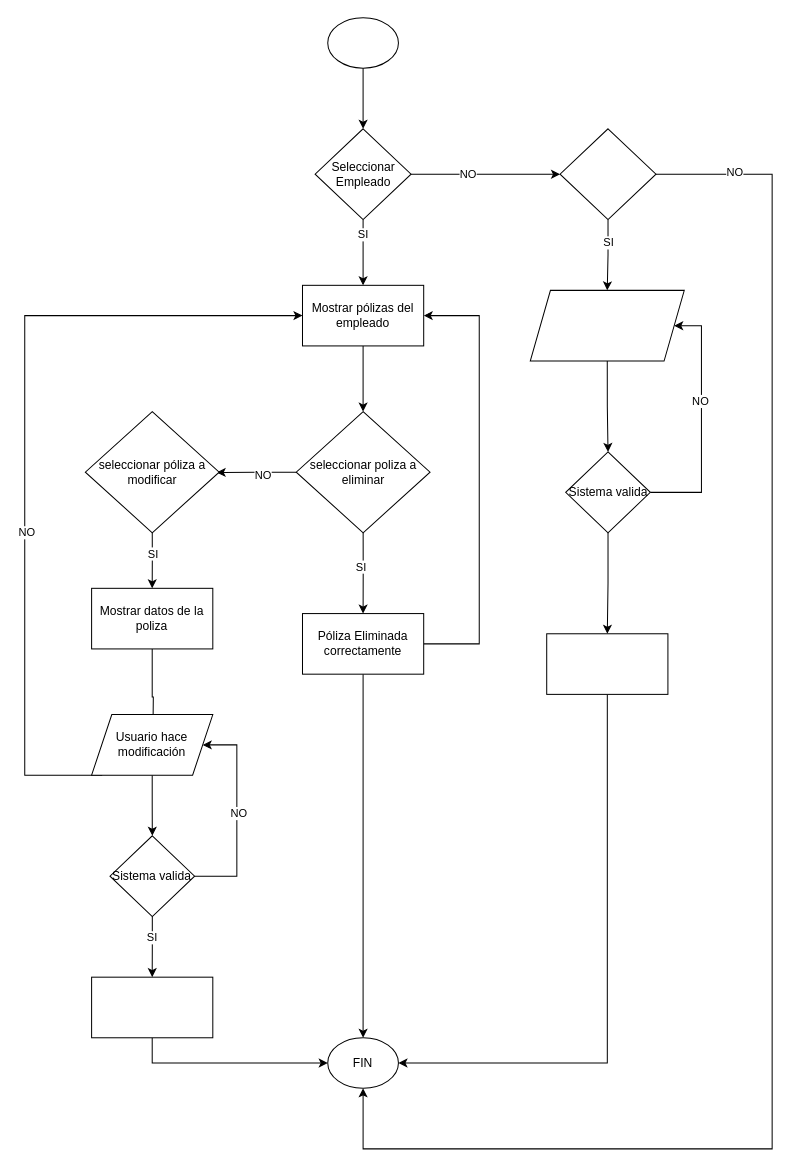
The diagram is 798 pixels wide and 1175 high, and some of its shapes have lost their labels. The centre of each missing label's shape, as x and y in pixels:
"Inicio" belongs at pixel 362 42.
"Póliza Actualizada correctamente" belongs at pixel 152 1007.
"Póliza Agregada correctamente" belongs at pixel 607 663.
"Seleccionar agregar poliza" belongs at pixel 607 174.
"Usuario ingresa datos" belongs at pixel 606 325.
